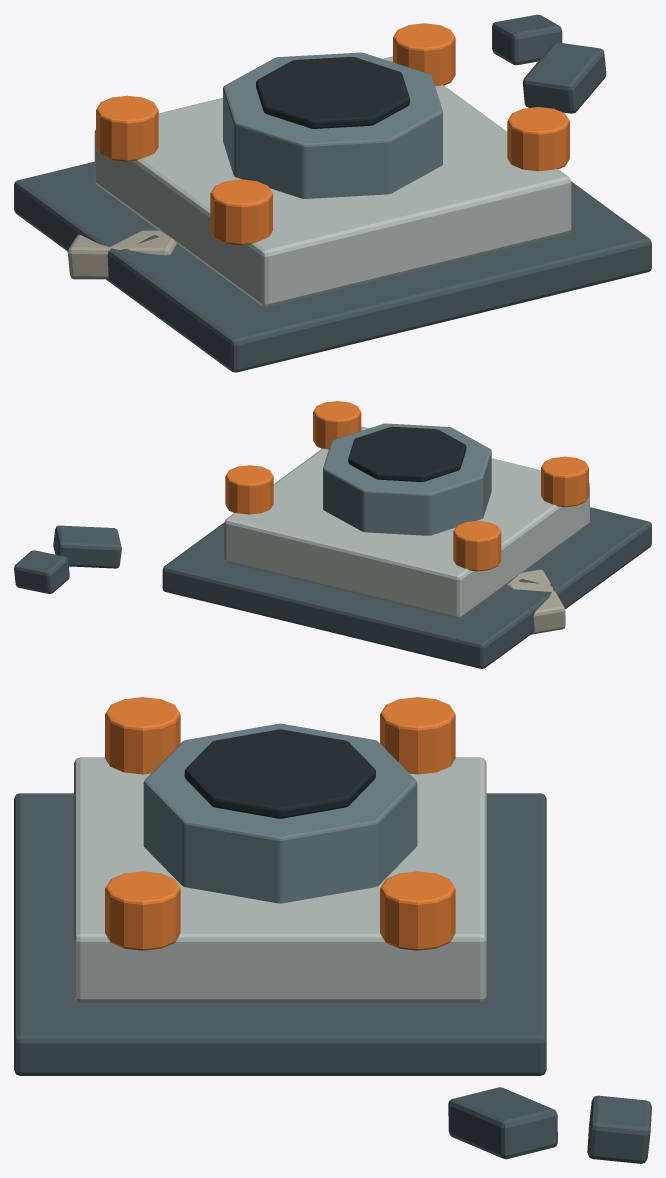
The model's file is assembly_pallet_d1.glb.
The picture shows the model from 3 angles, top to bottom: view 1: azimuth 30°, elevation 25°; view 2: azimuth 150°, elevation 25°; view 3: azimuth 270°, elevation 25°; orthographic projection. The views are drawn at different scales.
Visible parts, largest first — view 1: Rover chassis.013, Fixture pallet.017, Core housing.009, Core status.009, Debris fragment.102, Chassis mount.052, Chassis mount.053, Chassis mount.054, Chassis mount.055, Debris fragment.104, Debris fragment.101; view 2: Rover chassis.013, Fixture pallet.017, Core housing.009, Core status.009, Debris fragment.102, Chassis mount.053, Chassis mount.055, Chassis mount.052, Debris fragment.104, Chassis mount.054, Debris fragment.101; view 3: Fixture pallet.017, Rover chassis.013, Core housing.009, Core status.009, Debris fragment.102, Chassis mount.054, Chassis mount.055, Chassis mount.053, Chassis mount.052, Debris fragment.104.
Boxes of the visible parts, x1,y1,x2,y2 form: Rover chassis.013: [94, 56, 571, 306]; Fixture pallet.017: [14, 161, 651, 372]; Core housing.009: [223, 52, 442, 198]; Core status.009: [256, 57, 409, 128]; Debris fragment.102: [522, 42, 606, 113]; Chassis mount.052: [210, 179, 272, 245]; Chassis mount.053: [96, 95, 158, 161]; Chassis mount.054: [507, 107, 569, 171]; Chassis mount.055: [393, 23, 455, 86]; Debris fragment.104: [492, 14, 562, 65]; Debris fragment.101: [67, 230, 176, 279]; Rover chassis.013: [224, 426, 589, 618]; Fixture pallet.017: [162, 507, 651, 668]; Core housing.009: [323, 423, 491, 535]; Core status.009: [348, 426, 466, 481]; Debris fragment.102: [53, 525, 121, 568]; Chassis mount.053: [453, 521, 501, 571]; Chassis mount.055: [225, 465, 273, 514]; Chassis mount.052: [541, 456, 588, 507]; Debris fragment.104: [14, 550, 69, 593]; Chassis mount.054: [313, 401, 361, 449]; Debris fragment.101: [507, 569, 565, 634]; Fixture pallet.017: [14, 793, 546, 1075]; Rover chassis.013: [74, 757, 486, 1002]; Core housing.009: [143, 723, 417, 903]; Core status.009: [184, 729, 375, 818]; Debris fragment.102: [448, 1087, 557, 1159]; Chassis mount.054: [105, 871, 180, 950]; Chassis mount.055: [380, 871, 455, 950]; Chassis mount.053: [380, 697, 455, 774]; Chassis mount.052: [105, 697, 180, 774]; Debris fragment.104: [587, 1095, 651, 1163].
Bounding box in the file's own units: 2.43 × 0.6088 × 1.86.
